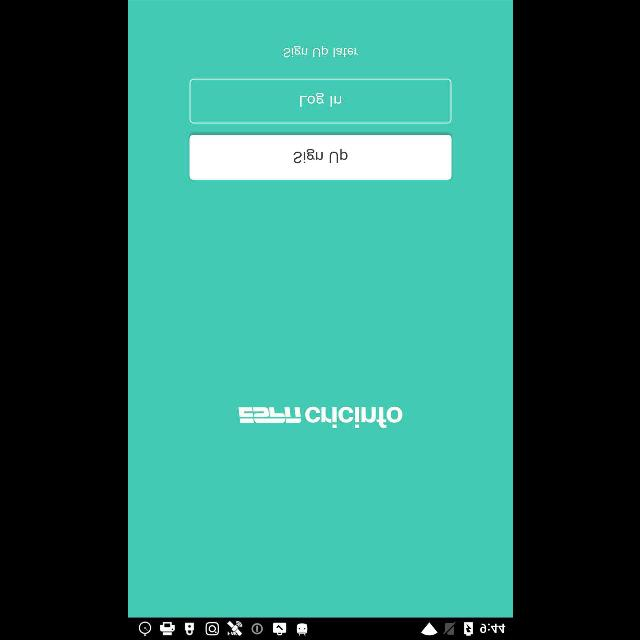image: (238, 406, 402, 428)
text: (282, 46, 358, 59)
textbutton: (189, 78, 451, 124), (189, 134, 451, 180)
uppertaskbar: (128, 617, 512, 639)
